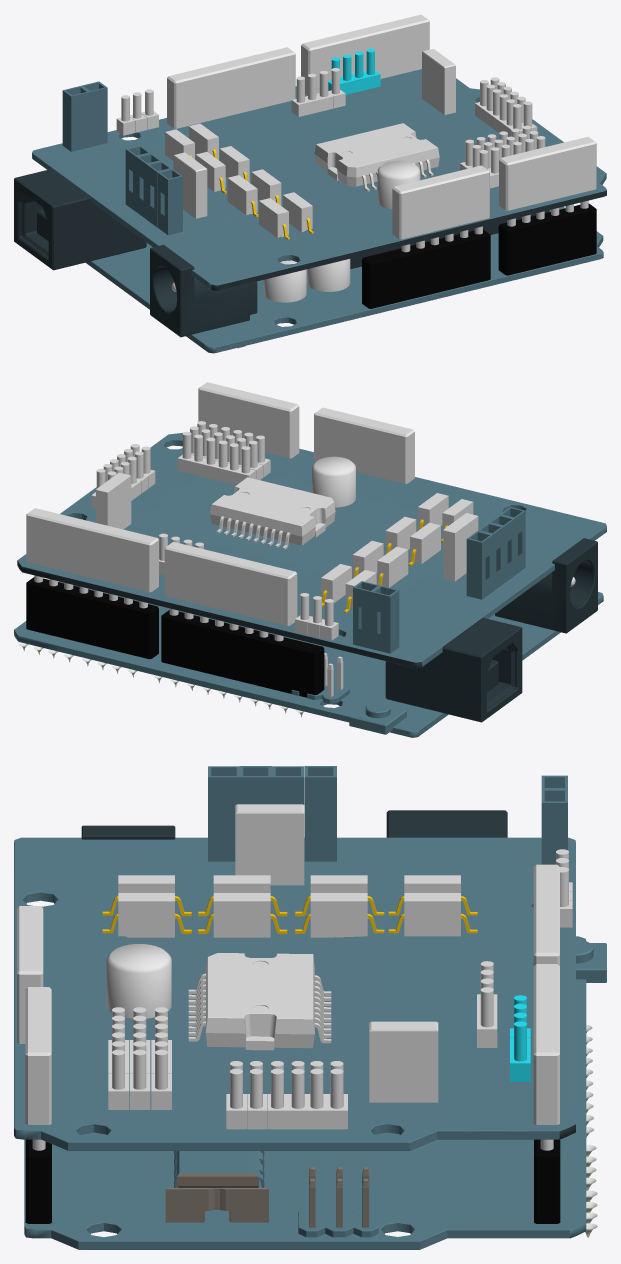
The model's file is Arduino1.fbx.
The picture shows the model from 3 angles, top to bottom: view 1: azimuth 30°, elevation 25°; view 2: azimuth 150°, elevation 25°; view 3: azimuth 270°, elevation 25°; orthographic projection. The views are drawn at different scales.
Parts seen in each view (by area): view 1: Arduino.012, Arduino.009, Arduino.013, Arduino.021, Arduino.025, Arduino.008, Arduino.014, Keyes.001, Arduino.005, Arduino.015, node_id3, Arduino.007 (+17 smaller); view 2: Arduino.012, Arduino.009, Arduino.025, Arduino.013, Arduino.021, Arduino.008, Arduino.014, Keyes.001, node_id3, Arduino.005, Arduino.015, BLE.pins.004 (+18 smaller); view 3: Arduino.012, Arduino.021, Arduino.025, Keyes.001, node_id3, Arduino.013, Arduino.018, BLE.pins, Cube.033, Cube, Arduino.009, Arduino.024 (+21 smaller).
Part boxes in pixels (box(x1,y1,x2,y2)): Arduino.012: box(32, 69, 606, 290); Arduino.009: box(362, 203, 596, 308); Arduino.013: box(301, 14, 596, 210); Arduino.021: box(86, 206, 603, 353); Arduino.025: box(207, 107, 499, 245); Arduino.008: box(14, 168, 146, 270); Arduino.014: box(167, 47, 295, 128); Keyes.001: box(165, 123, 313, 239); Arduino.005: box(150, 244, 257, 337); Arduino.015: box(392, 165, 489, 239); node_id3: box(314, 123, 439, 191); Arduino.007: box(264, 259, 350, 302); Arduino.012: box(17, 433, 606, 668); Arduino.009: box(26, 577, 324, 697); Arduino.025: box(89, 450, 485, 591); Arduino.013: box(26, 382, 299, 592); Arduino.021: box(14, 581, 603, 737); Arduino.008: box(385, 617, 522, 722); Arduino.014: box(164, 541, 297, 625); Keyes.001: box(321, 493, 473, 612); node_id3: box(210, 477, 335, 549); Arduino.005: box(495, 538, 597, 633); Arduino.015: box(314, 407, 414, 483); BLE.pins.004: box(177, 431, 255, 485); Arduino.012: box(14, 837, 575, 1150); Arduino.021: box(24, 936, 586, 1249); Arduino.025: box(82, 906, 387, 1125); Keyes.001: box(102, 875, 477, 937); node_id3: box(188, 953, 331, 1050); Arduino.013: box(25, 964, 559, 1124); Arduino.018: box(165, 1151, 268, 1222); BLE.pins: box(226, 1068, 347, 1129); Cube.033: box(369, 1021, 438, 1102); Cube: box(235, 804, 304, 885); Arduino.009: box(25, 1139, 560, 1223); Arduino.024: box(106, 944, 171, 1018).
Size of the model in its own units: 989 by 305 by 743.
